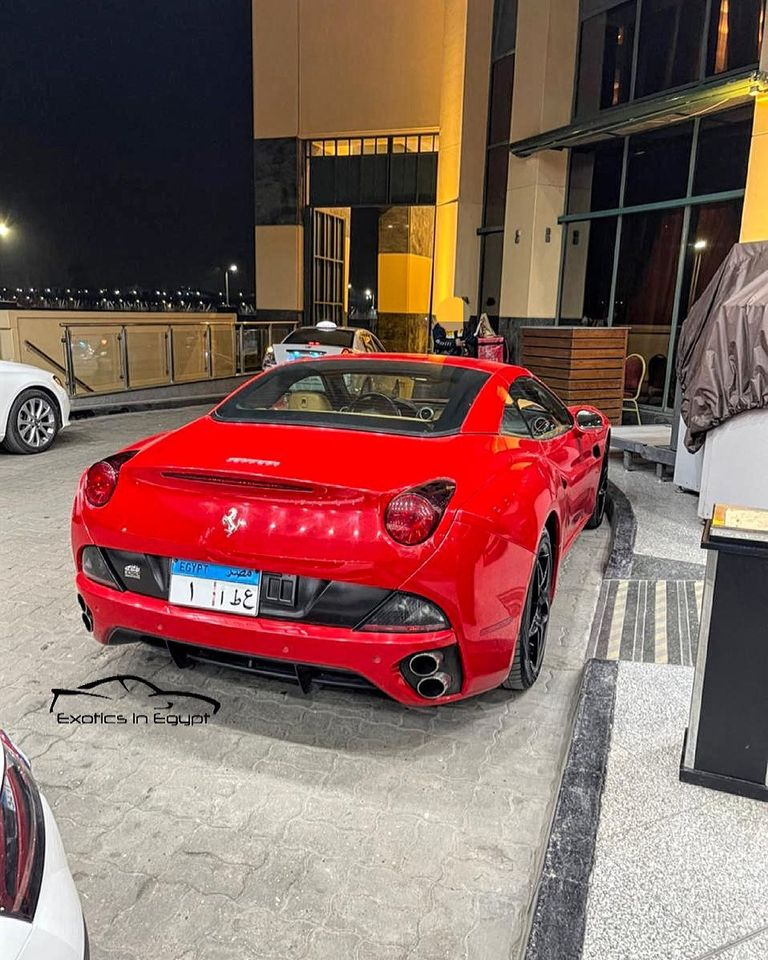carpl: (169, 572, 268, 613)
